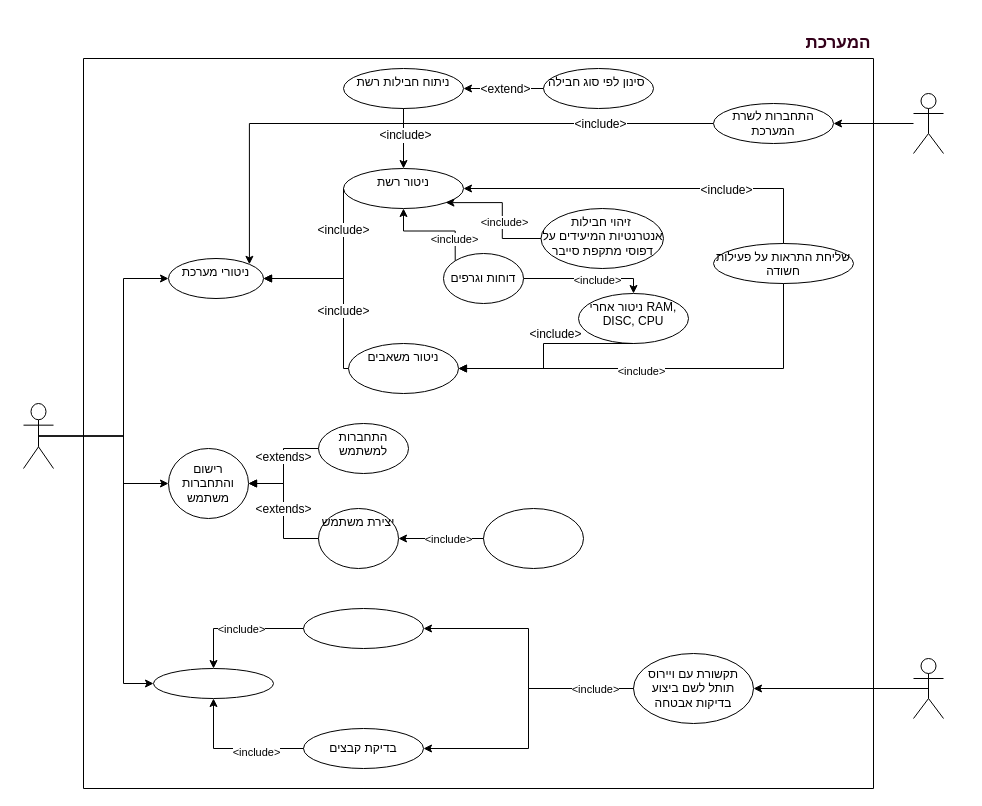
The diagram is 982 pixels wide and 806 high, and some of its shapes have lost their labels. The shapes that lost their labels are listed below. From the top down, each one's centre as x and y in pixels, then its label:
At pixel 928 123: "שרת".
At pixel 38 435: "משתמש".
At pixel 533 538: "אימות כתובת אימייל".
At pixel 363 628: "בדיקת הייפר קישורים".
At pixel 213 683: "בדיקות אבטחת מכונה".
At pixel 928 688: "VirusTotal Api".
